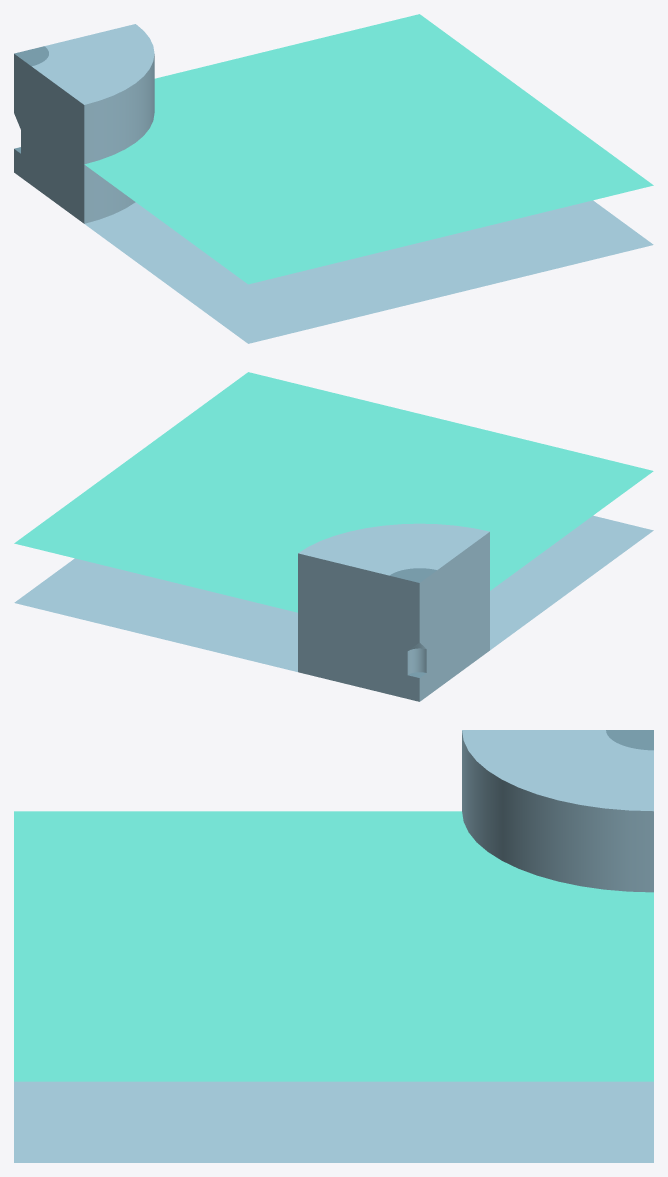
File: fountainCornerInner.fbx
3 renders of one model, top to bottom at view 1: azimuth 30°, elevation 25°; view 2: azimuth 150°, elevation 25°; view 3: azimuth 270°, elevation 25°, orthographic. The views are drawn at different scales.
Visible parts, largest first — view 1: fountainCornerInner; view 2: fountainCornerInner; view 3: fountainCornerInner.
Part boxes in pixels (<box>): fountainCornerInner: <box>14,14,653,343</box>; fountainCornerInner: <box>14,372,653,701</box>; fountainCornerInner: <box>14,730,653,1162</box>.
Size of the model in its own units: 10 by 2.8 by 10.
